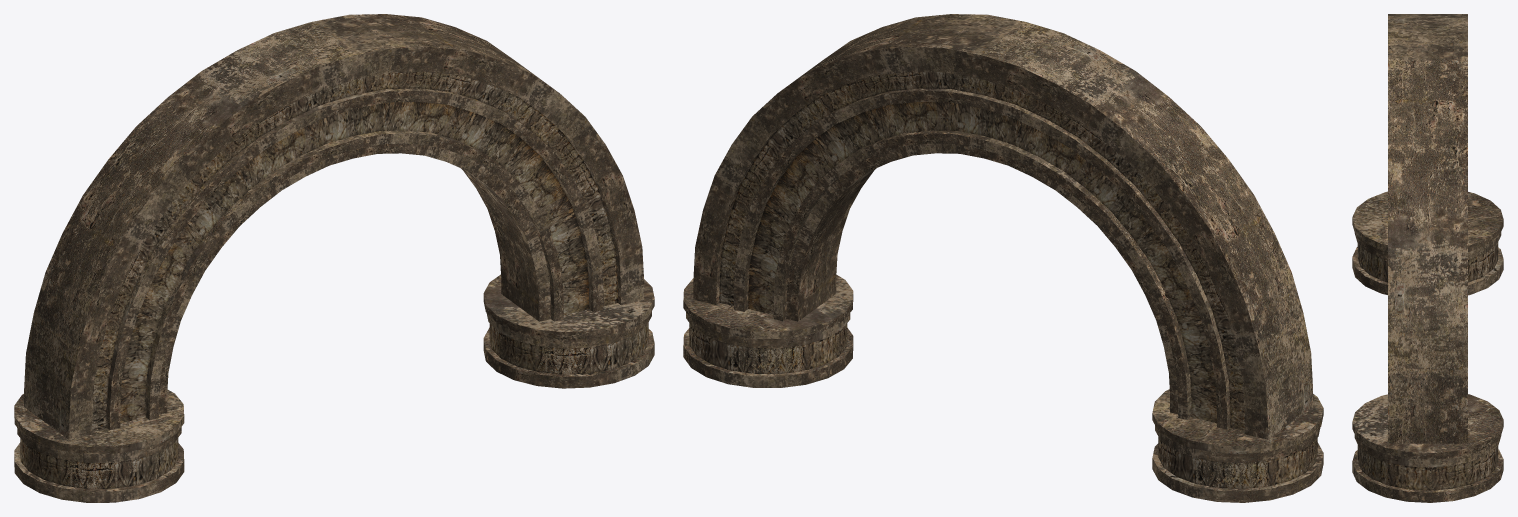
Rendered from materials_5_arch_4.fbx.
3 renders of one model, left to right at view 1: azimuth 30°, elevation 25°; view 2: azimuth 150°, elevation 25°; view 3: azimuth 270°, elevation 25°, orthographic. The views are drawn at different scales.
Parts seen in each view (by area): view 1: materials_5_arch_4; view 2: materials_5_arch_4; view 3: materials_5_arch_4.
Boxes of the visible parts, x1,y1,x2,y2 form: materials_5_arch_4: [14, 14, 654, 502]; materials_5_arch_4: [683, 14, 1323, 502]; materials_5_arch_4: [1352, 14, 1503, 502].
Size of the model in its own units: 174 by 99.61 by 41.7.
